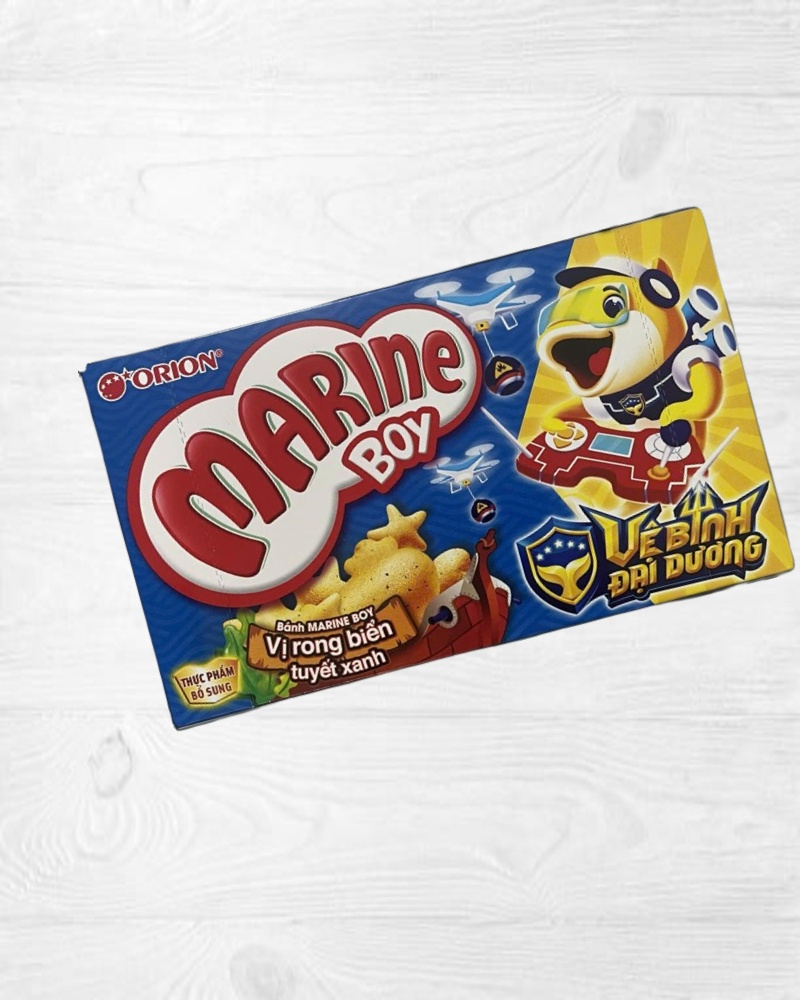Marine: (80, 200, 800, 736)
